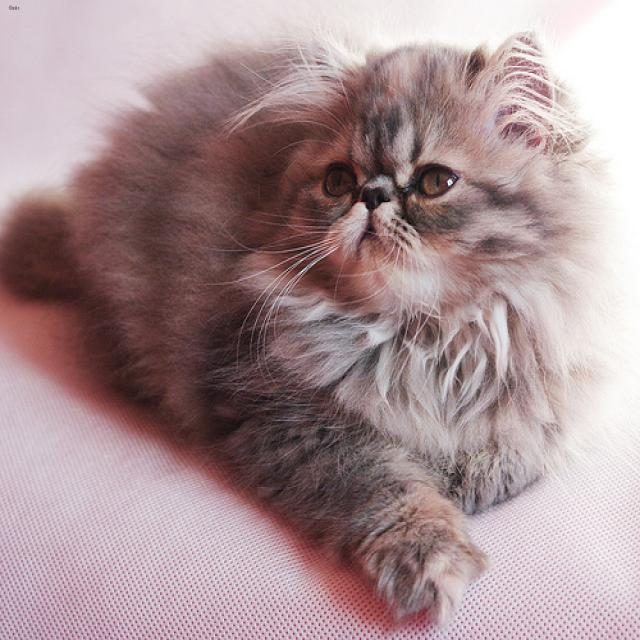Persian: (257, 18, 596, 311)
